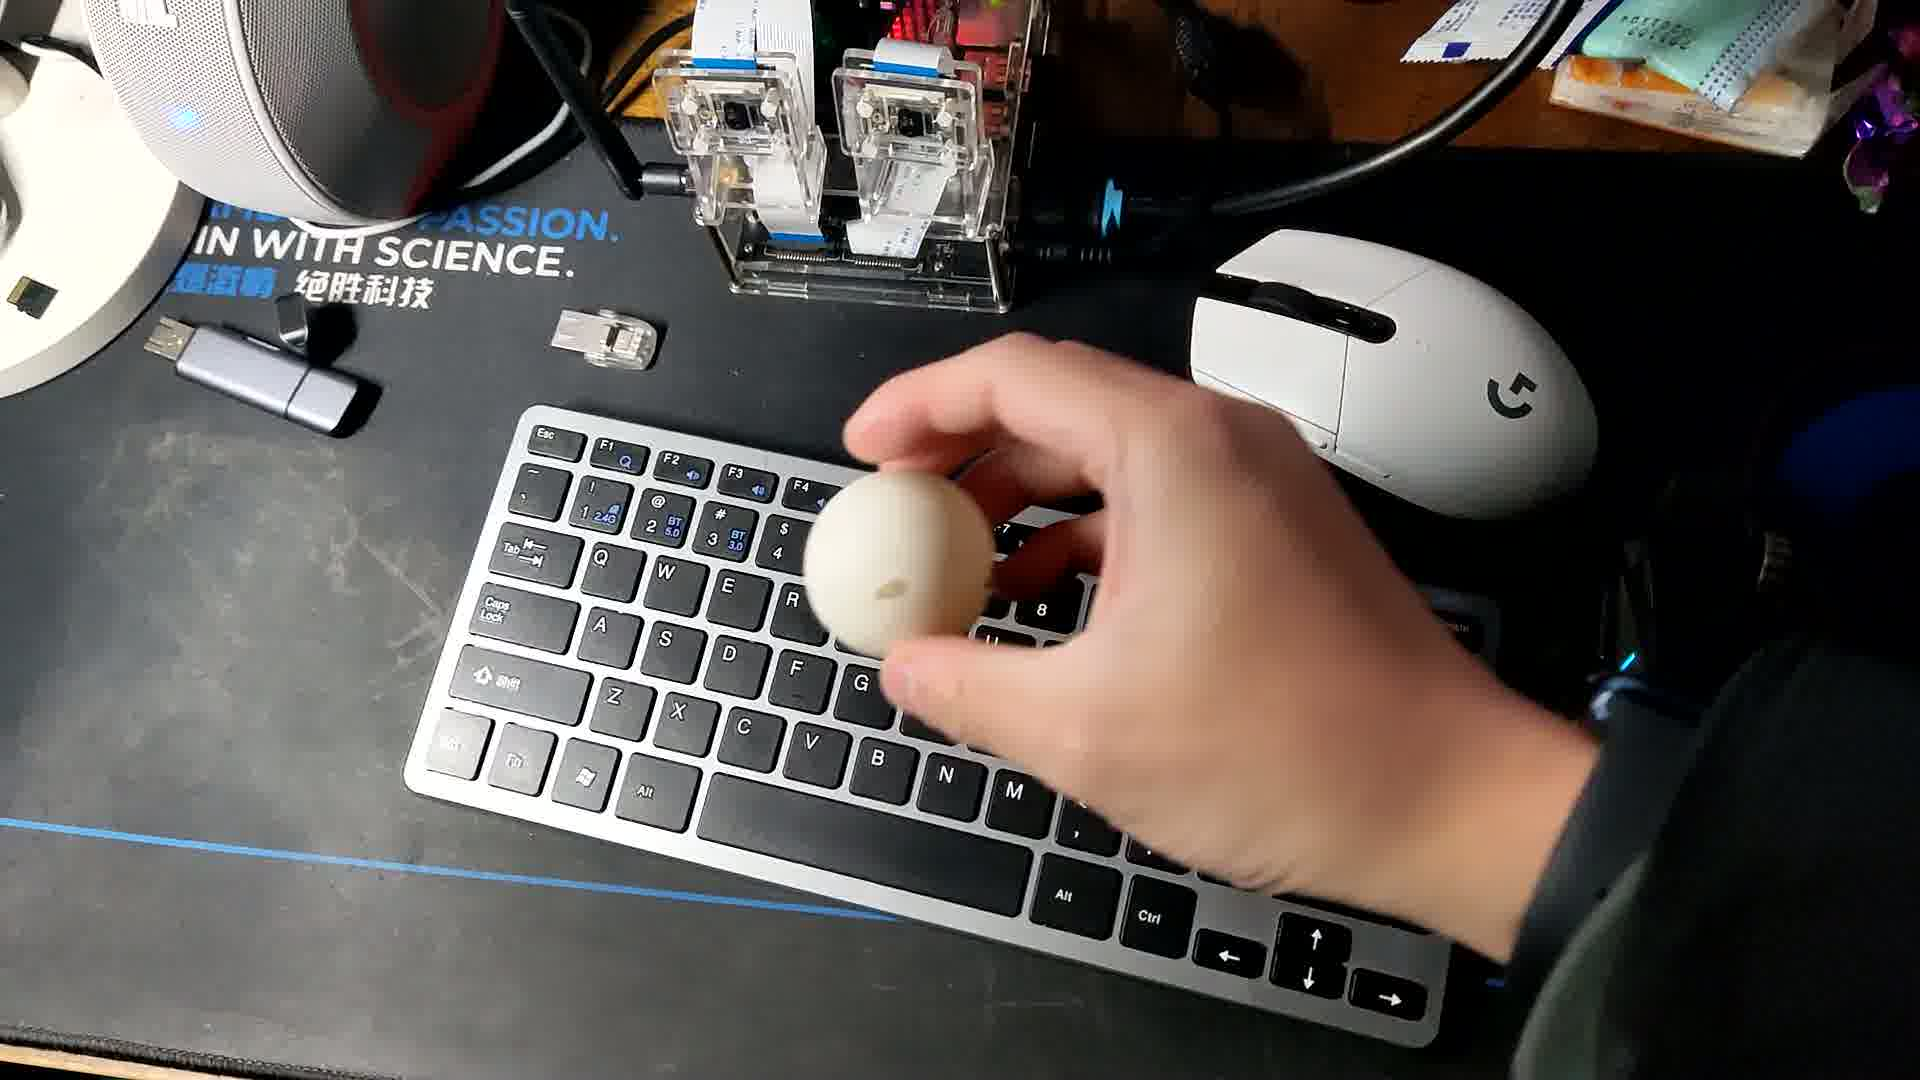Ball: (806, 468, 994, 653)
